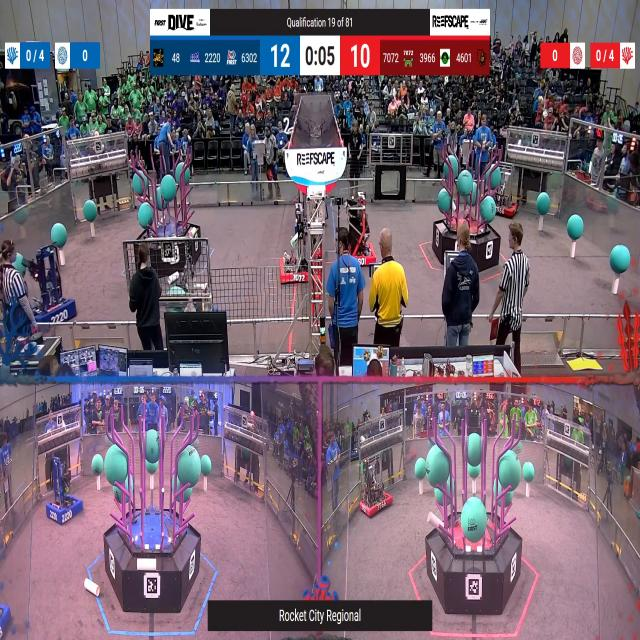scoreboard: (150, 35, 490, 76)
